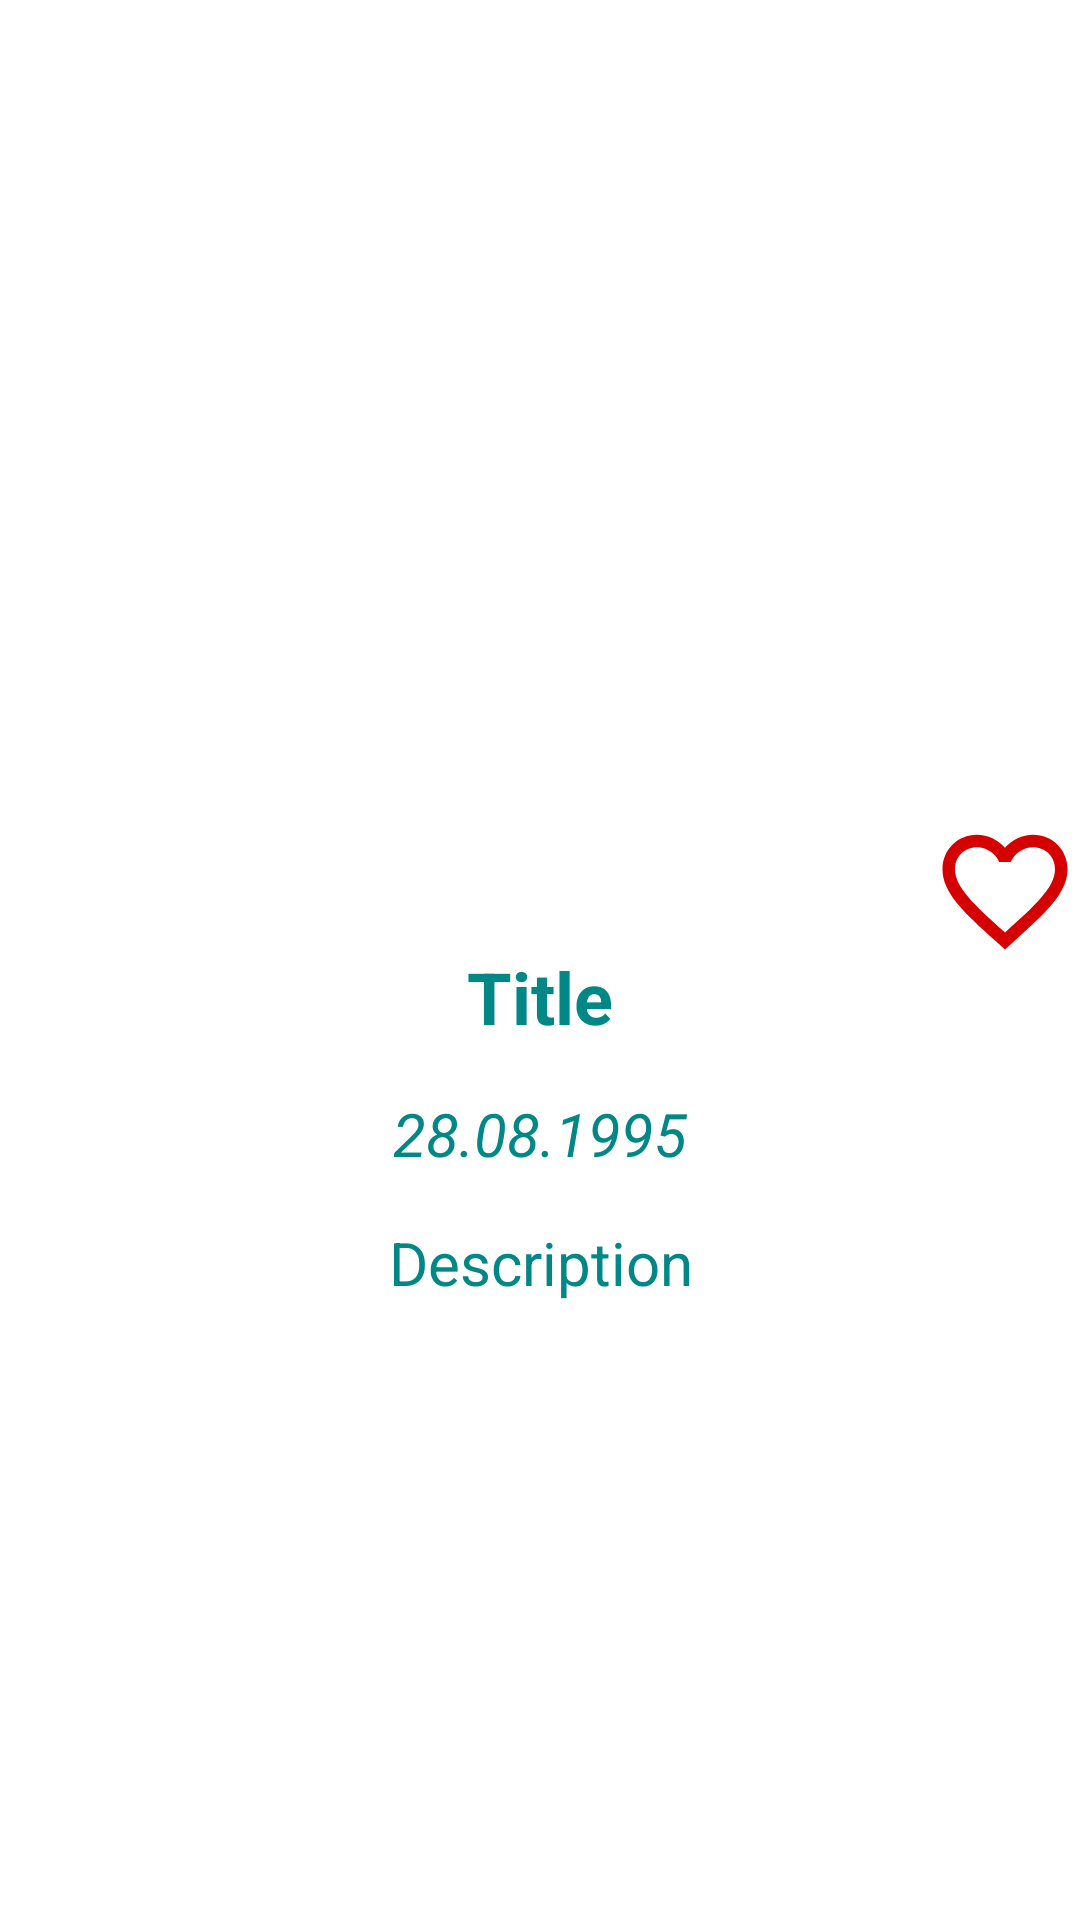

Icon click points for this 1080w x 1920h phone screenshot, format (x=x, y=y):
favorite border: (x=1005, y=892)
